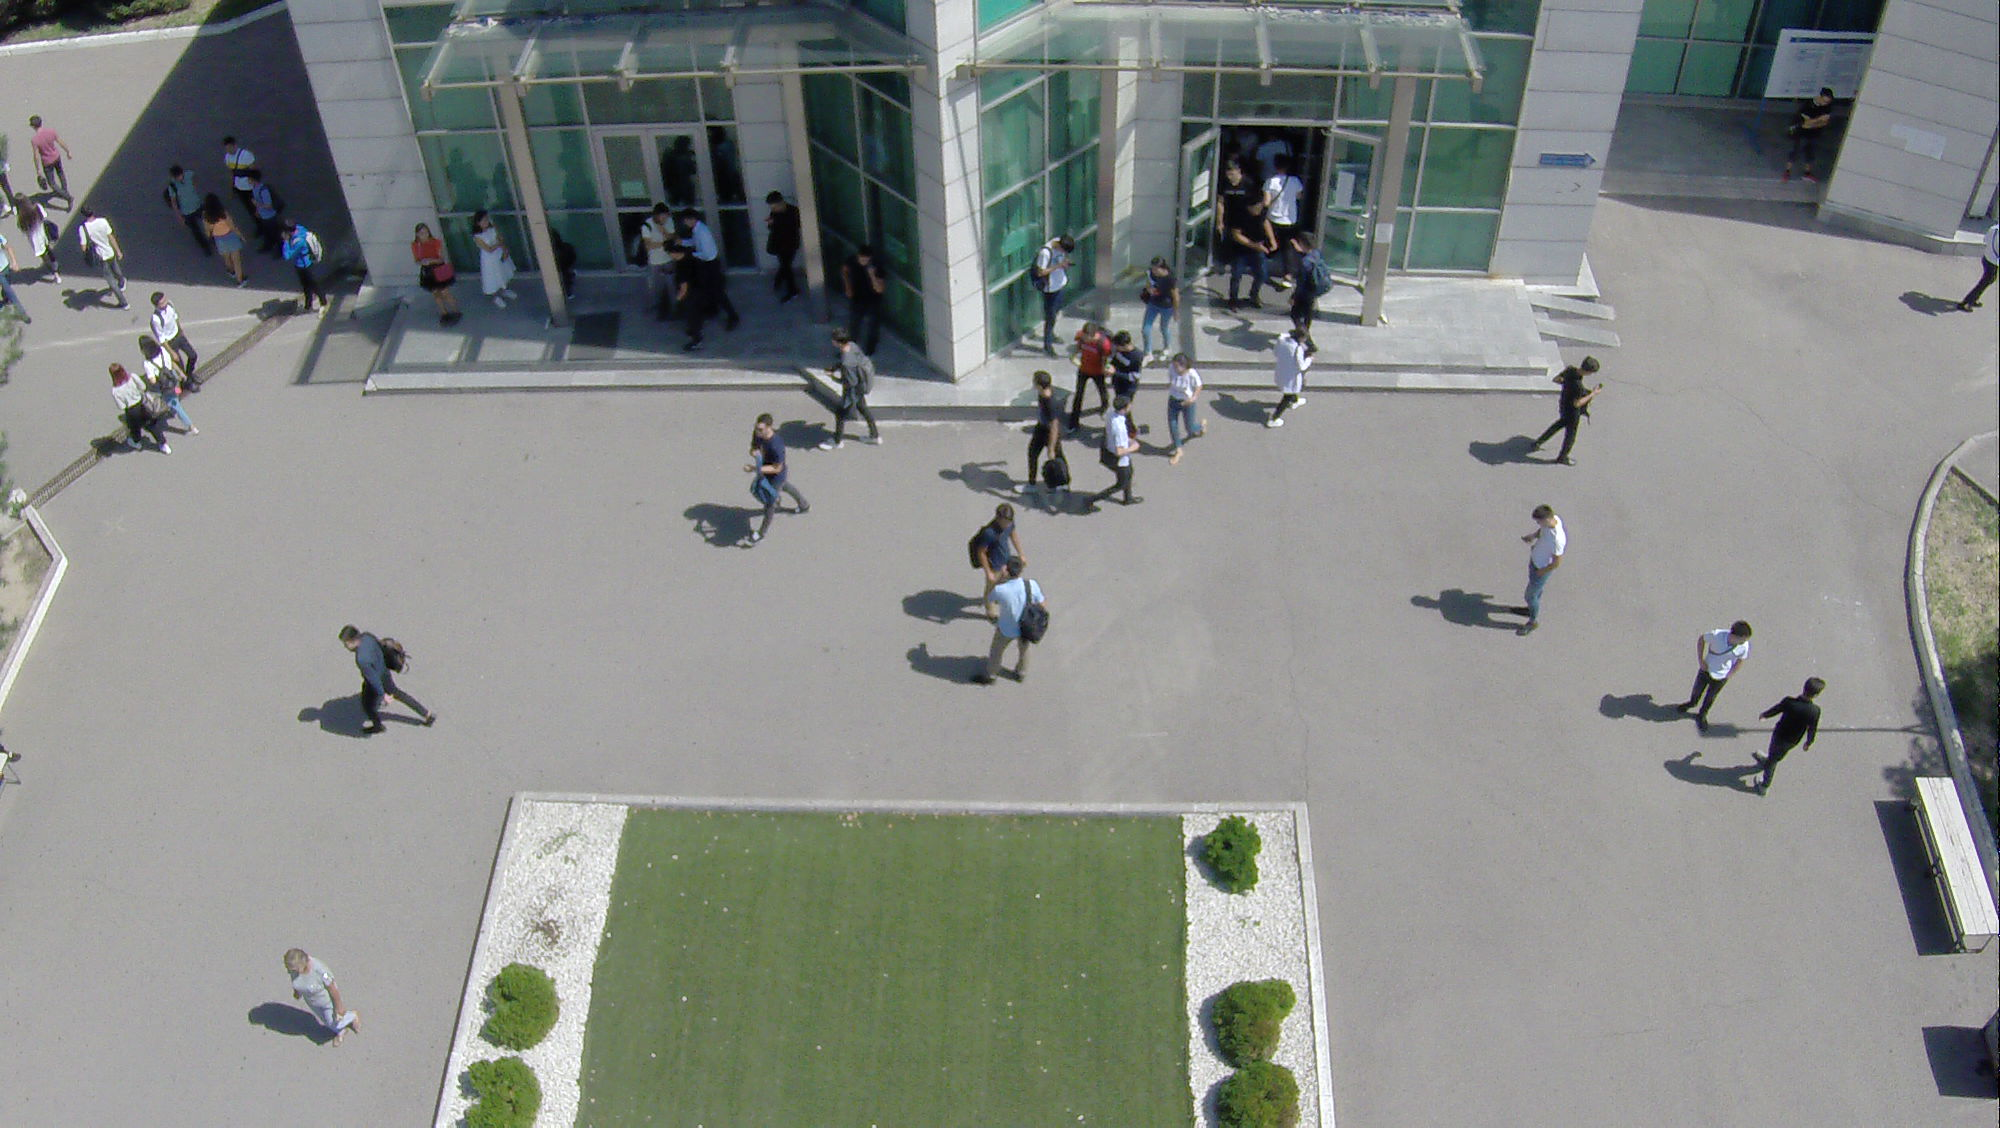person: (335, 614, 445, 750), (731, 405, 816, 556), (1518, 352, 1614, 476), (1749, 671, 1828, 813), (275, 941, 374, 1048), (975, 556, 1048, 692), (1676, 618, 1752, 735), (824, 322, 889, 458), (1517, 497, 1569, 644), (1028, 222, 1080, 367), (150, 287, 211, 401), (102, 355, 163, 467), (1092, 392, 1148, 512), (1023, 369, 1073, 507), (277, 207, 334, 322), (683, 209, 733, 333), (7, 189, 66, 293), (1222, 187, 1273, 304), (78, 201, 130, 310), (1783, 84, 1838, 185), (474, 209, 526, 314), (1263, 318, 1310, 425), (1164, 348, 1208, 465), (415, 217, 459, 330), (636, 202, 676, 321), (27, 113, 75, 210), (847, 247, 890, 348), (966, 499, 1027, 568), (1291, 223, 1332, 323), (763, 187, 799, 296), (203, 193, 245, 289), (1143, 256, 1180, 347), (1102, 322, 1148, 393), (1072, 318, 1111, 400), (166, 163, 202, 250), (220, 129, 255, 190)
